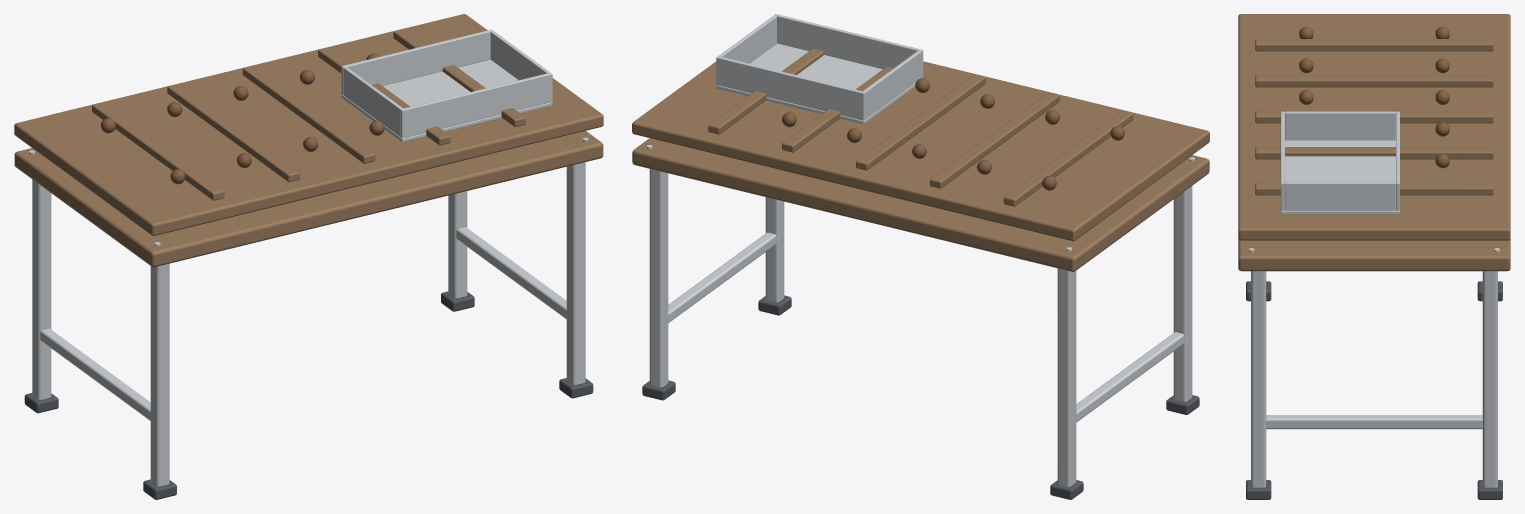
File: chocolate-making-and-confectionery-bean-sorting-table-e936092a__39134.glb
3 renders of one model, left to right at view 1: azimuth 30°, elevation 25°; view 2: azimuth 150°, elevation 25°; view 3: azimuth 270°, elevation 25°, orthographic. The views are drawn at different scales.
Parts seen in each view (by area): view 1: bean-sorting-table; view 2: bean-sorting-table; view 3: bean-sorting-table.
Part boxes in pixels (x1,y1,x2,y2): bean-sorting-table: [14, 14, 603, 499]; bean-sorting-table: [632, 14, 1209, 499]; bean-sorting-table: [1238, 14, 1510, 499].
Bounding box in the file's own units: 1.5 × 0.9921 × 0.8001.
